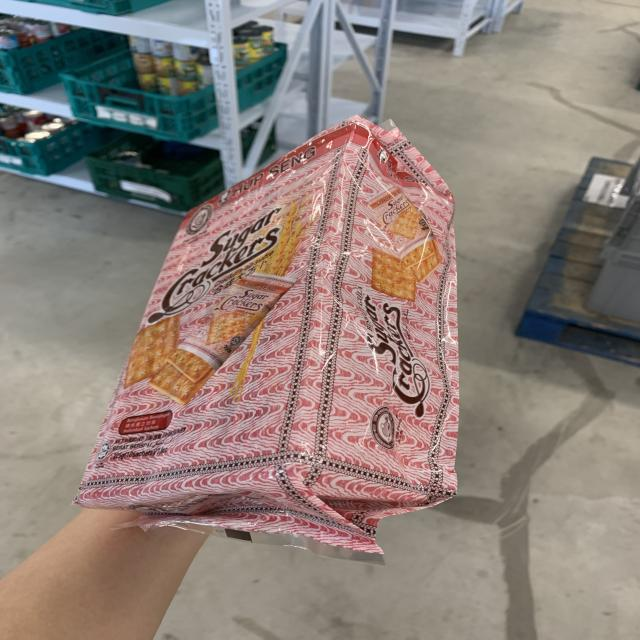object_name: (171, 138, 440, 527)
